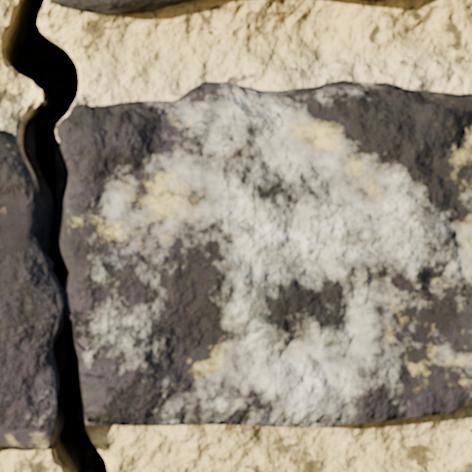brick: (52, 0, 189, 14)
broken_brick: (58, 79, 471, 428), (0, 129, 64, 451)
crack: (1, 0, 111, 471)
